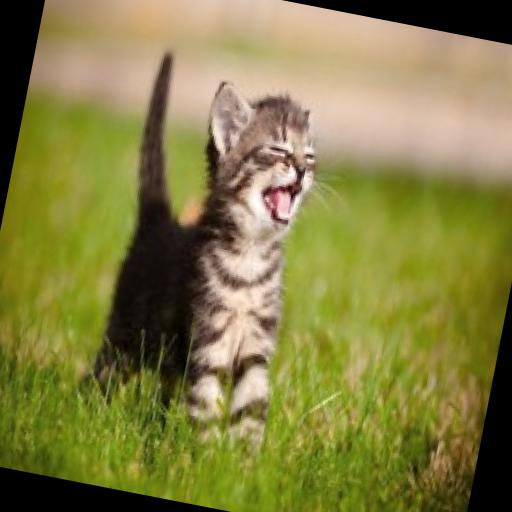cat: (75, 39, 352, 463)
